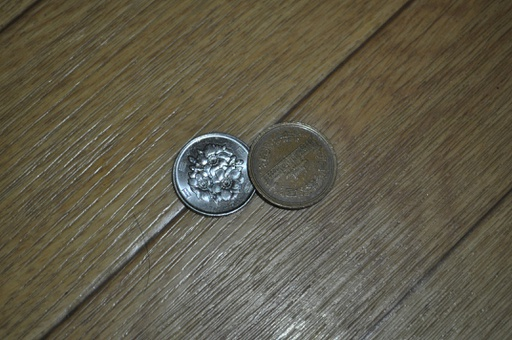100yen: (171, 132, 258, 216)
10yen: (247, 123, 337, 210)
